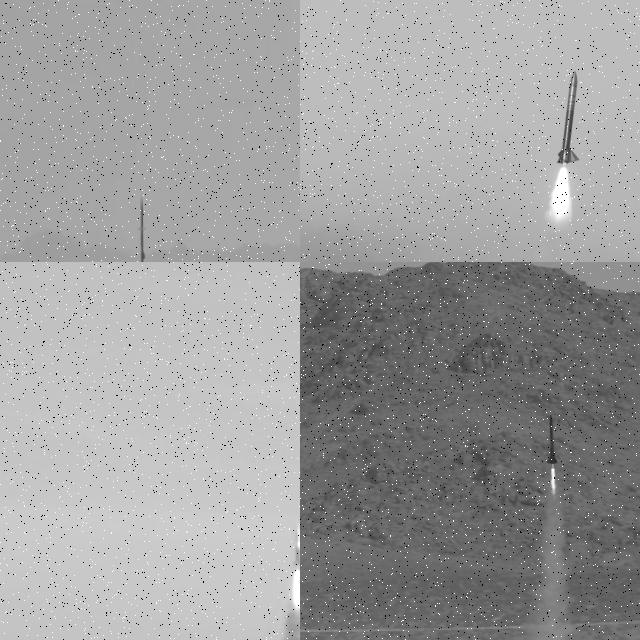Rocket: (556, 71, 581, 164), (546, 413, 559, 466), (141, 196, 146, 262), (293, 524, 300, 565)
